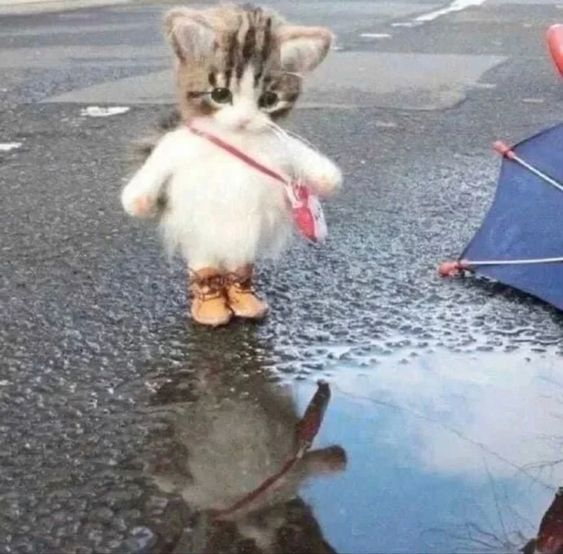cat: (132, 3, 347, 325)
